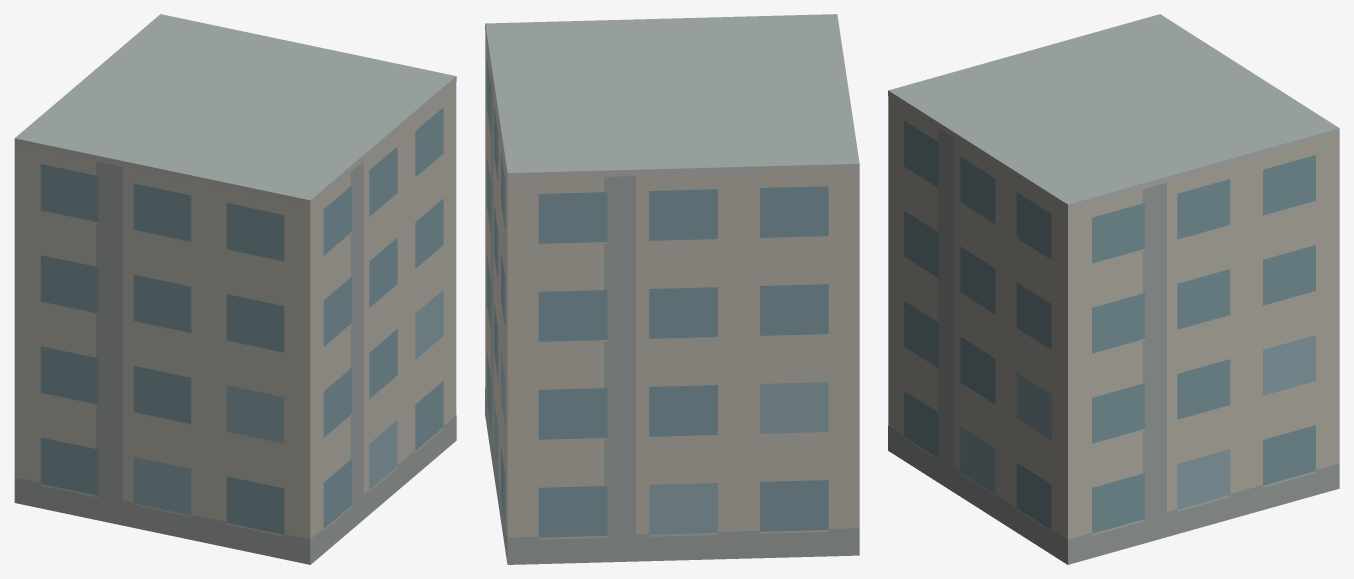
File: residential-bd33c947-722a-48d7-915c-748ae1454e25.glb
3 views of the same model, side by side, from view 1: azimuth 30°, elevation 25°; view 2: azimuth 150°, elevation 25°; view 3: azimuth 270°, elevation 25° (orthographic). The views are drawn at different scales.
Parts seen in each view (by area): view 1: residential-bd33c947-722a-48d7-915c-748ae1454e25.tmp; view 2: residential-bd33c947-722a-48d7-915c-748ae1454e25.tmp; view 3: residential-bd33c947-722a-48d7-915c-748ae1454e25.tmp.
Part boxes in pixels (bbox=[...]): residential-bd33c947-722a-48d7-915c-748ae1454e25.tmp: bbox=[14, 14, 456, 564]; residential-bd33c947-722a-48d7-915c-748ae1454e25.tmp: bbox=[485, 14, 859, 564]; residential-bd33c947-722a-48d7-915c-748ae1454e25.tmp: bbox=[888, 14, 1339, 564].
Bounding box in the file's own units: 17.03 × 15.01 × 17.05.
